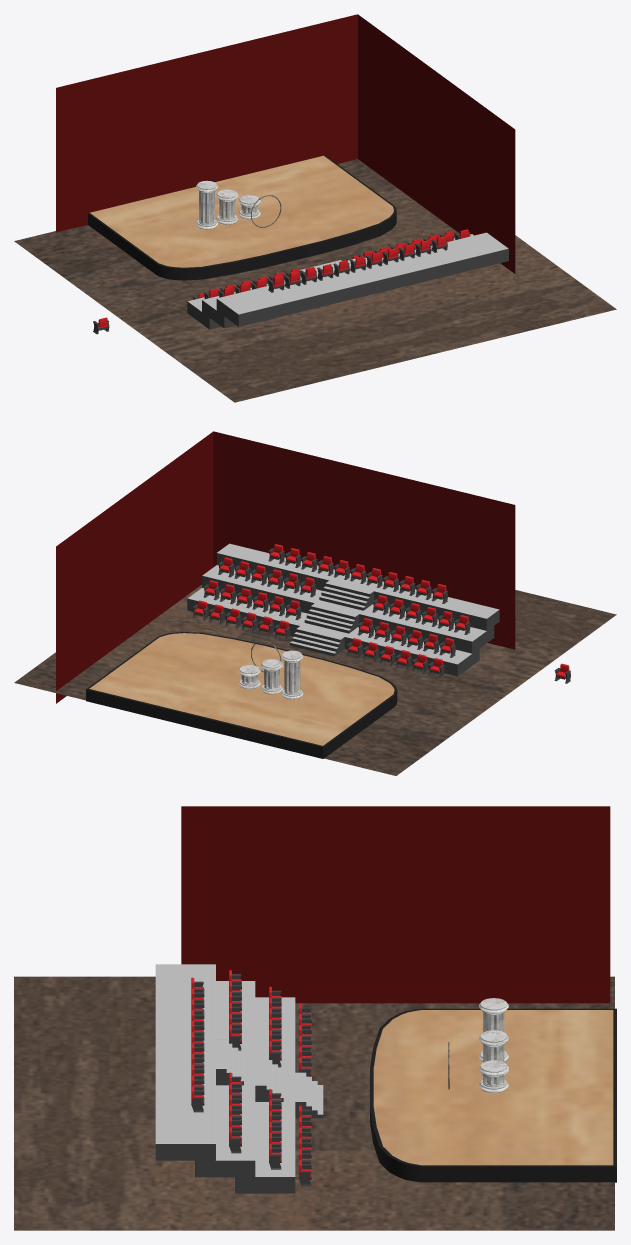
The model's file is scena1.fbx.
3 renders of one model, top to bottom at view 1: azimuth 30°, elevation 25°; view 2: azimuth 150°, elevation 25°; view 3: azimuth 270°, elevation 25°, orthographic. The views are drawn at different scales.
Visible parts, largest first — view 1: Plane, podloga, scena, Cube.004, FOTEL.007, Architectural_Pillar.002, Architectural_Pillar.001; view 2: Plane, podloga, scena, Cube.004, Cube.003, Cube, schody, FOTEL.007, FOTEL.002, FOTEL.004, FOTEL.006, FOTEL.005 (+4 smaller); view 3: Plane, podloga, scena, Cube.004, Cube, Cube.003, schody, FOTEL.007, FOTEL.006, FOTEL.004, FOTEL.002, FOTEL (+5 smaller).
Part boxes in pixels (bbox=[...]): Plane: bbox=[56, 14, 515, 273]; podloga: bbox=[14, 159, 616, 402]; scena: bbox=[88, 155, 396, 280]; Cube.004: bbox=[216, 232, 508, 326]; FOTEL.007: bbox=[268, 236, 447, 292]; Architectural_Pillar.002: bbox=[196, 180, 217, 229]; Architectural_Pillar.001: bbox=[216, 189, 238, 224]; Plane: bbox=[56, 431, 515, 703]; podloga: bbox=[14, 585, 616, 775]; scena: bbox=[86, 632, 397, 758]; Cube.004: bbox=[216, 543, 499, 630]; Cube.003: bbox=[202, 565, 494, 653]; Cube: bbox=[187, 588, 479, 676]; schody: bbox=[290, 580, 373, 656]; FOTEL.007: bbox=[268, 544, 448, 603]; FOTEL.002: bbox=[203, 580, 301, 620]; FOTEL.004: bbox=[192, 600, 290, 640]; FOTEL.006: bbox=[218, 557, 315, 597]; FOTEL.005: bbox=[372, 595, 470, 634]; Plane: bbox=[181, 806, 610, 1003]; podloga: bbox=[14, 976, 614, 1230]; scena: bbox=[370, 1008, 616, 1182]; Cube.004: bbox=[155, 964, 215, 1160]; Cube: bbox=[235, 997, 295, 1193]; Cube.003: bbox=[195, 981, 255, 1177]; schody: bbox=[215, 1039, 323, 1118]; FOTEL.007: bbox=[191, 977, 204, 1112]; FOTEL.006: bbox=[229, 1072, 241, 1153]; FOTEL.004: bbox=[299, 1105, 311, 1186]; FOTEL.002: bbox=[269, 1089, 281, 1169]; FOTEL: bbox=[269, 986, 281, 1067].
Bounding box in the file's own units: 6303 × 2214 × 5644.
